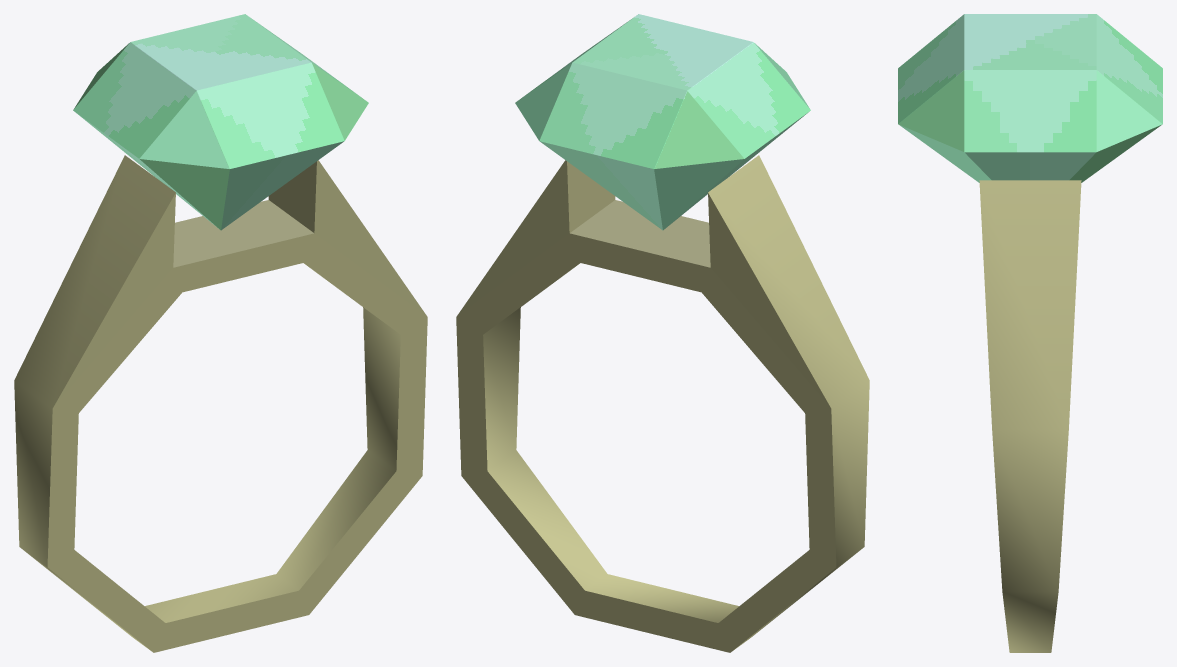
The model's file is 0035_Emerald_Ring.glb.
The picture shows the model from 3 angles, left to right: view 1: azimuth 30°, elevation 25°; view 2: azimuth 150°, elevation 25°; view 3: azimuth 270°, elevation 25°; orthographic projection.
Parts seen in each view (by area): view 1: part_0; view 2: part_0; view 3: part_0.
Part boxes in pixels (bbox=[...]): part_0: bbox=[14, 14, 427, 652]; part_0: bbox=[456, 14, 869, 652]; part_0: bbox=[898, 14, 1162, 652].
Size of the model in its own units: 0.0323 by 0.0472 by 0.0198.
1 material, 1 textured.
